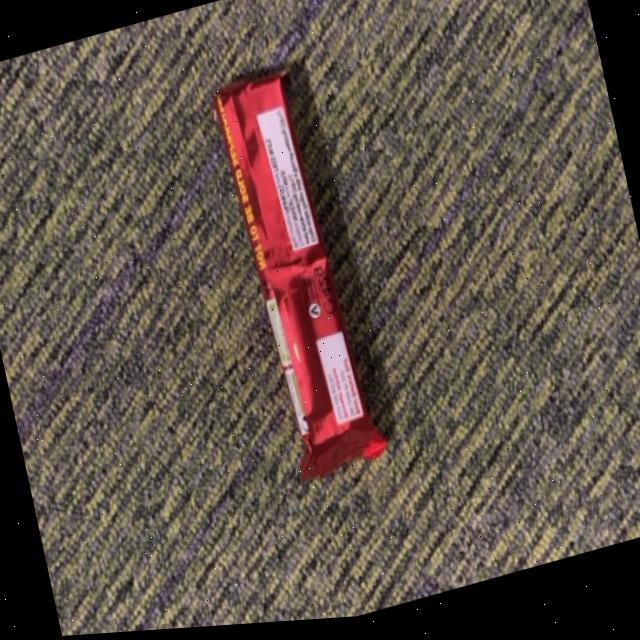chocolate: (187, 39, 404, 516)
